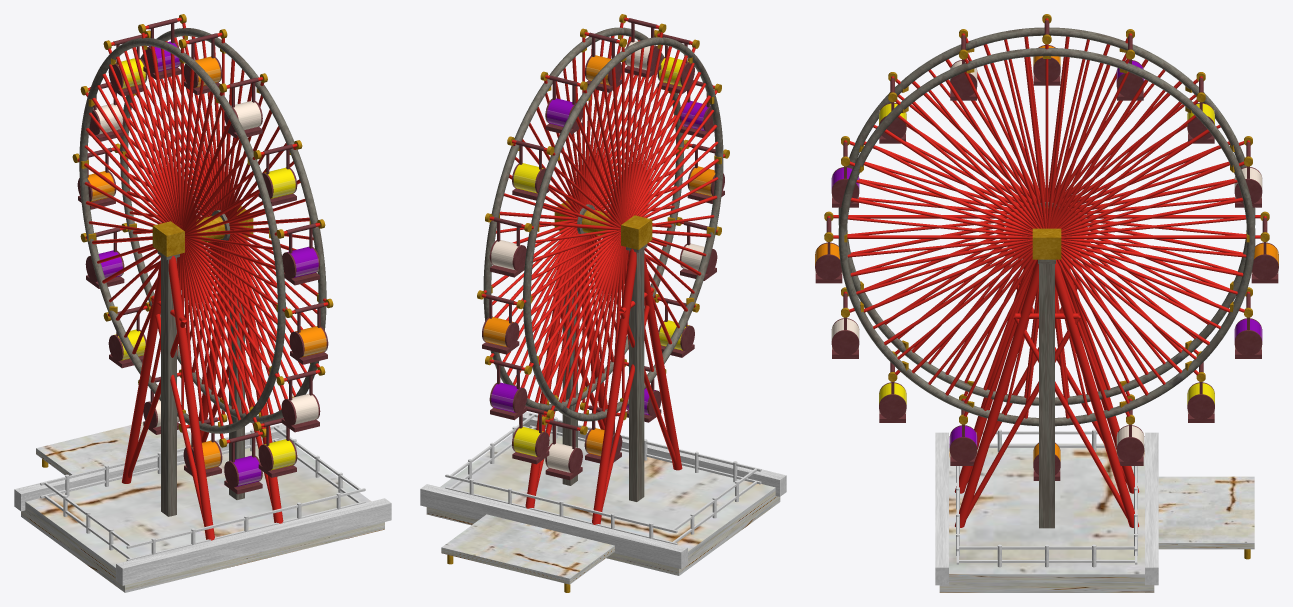
The model's file is ferris_wheel__0000.glb.
3 views of the same model, side by side, from view 1: azimuth 30°, elevation 25°; view 2: azimuth 150°, elevation 25°; view 3: azimuth 270°, elevation 25° (orthographic). The views are drawn at different scales.
Parts seen in each view (by area): view 1: support_frame::platform_slab, wheel::left_outer_rim, support_frame::rear_curbstone, wheel::right_outer_rim, support_frame::left_hidden_core, support_frame::boarding_bridge, support_frame::left_rear_inclined_leg, support_frame::front_curbstone, support_frame::left_front_inclined_leg, support_frame::right_hidden_core, support_frame::left_bearing_block, support_frame::right_rear_inclined_leg (+38 smaller); view 2: support_frame::platform_slab, wheel::left_outer_rim, support_frame::boarding_bridge, support_frame::front_curbstone, wheel::right_outer_rim, support_frame::left_hidden_core, support_frame::left_front_inclined_leg, support_frame::rear_curbstone, support_frame::left_rear_inclined_leg, support_frame::right_hidden_core, support_frame::left_bearing_block, support_frame::right_front_inclined_leg (+34 smaller); view 3: support_frame::platform_slab, wheel::right_outer_rim, wheel::left_outer_rim, support_frame::boarding_bridge, support_frame::right_hidden_core, support_frame::right_front_inclined_leg, support_frame::right_rear_inclined_leg, support_frame::front_curbstone, support_frame::rear_curbstone, support_frame::left_front_inclined_leg, support_frame::left_rear_inclined_leg, support_frame::right_cross_diagonal_a (+52 smaller).
Part boxes in pixels (bbox=[...]): support_frame::platform_slab: bbox=[21, 438, 384, 592]; wheel::left_outer_rim: bbox=[79, 38, 285, 433]; support_frame::rear_curbstone: bbox=[116, 498, 391, 585]; wheel::right_outer_rim: bbox=[120, 28, 326, 423]; support_frame::left_hidden_core: bbox=[161, 256, 176, 516]; support_frame::boarding_bridge: bbox=[36, 422, 191, 475]; support_frame::left_rear_inclined_leg: bbox=[168, 256, 214, 540]; support_frame::front_curbstone: bbox=[14, 424, 289, 511]; support_frame::left_front_inclined_leg: bbox=[122, 258, 160, 483]; support_frame::right_hidden_core: bbox=[229, 293, 244, 499]; support_frame::left_bearing_block: bbox=[152, 221, 184, 256]; support_frame::right_rear_inclined_leg: bbox=[243, 289, 283, 523]; support_frame::platform_slab: bbox=[426, 426, 780, 575]; wheel::left_outer_rim: bbox=[523, 37, 723, 421]; support_frame::boarding_bridge: bbox=[441, 514, 614, 584]; support_frame::front_curbstone: bbox=[420, 484, 687, 568]; wheel::right_outer_rim: bbox=[483, 27, 683, 411]; support_frame::left_hidden_core: bbox=[629, 249, 644, 501]; support_frame::left_front_inclined_leg: bbox=[592, 249, 636, 524]; support_frame::rear_curbstone: bbox=[519, 412, 786, 496]; support_frame::left_rear_inclined_leg: bbox=[644, 252, 682, 470]; support_frame::right_hidden_core: bbox=[562, 287, 577, 485]; support_frame::left_bearing_block: bbox=[621, 215, 652, 249]; support_frame::right_front_inclined_leg: bbox=[525, 280, 564, 508]; support_frame::platform_slab: bbox=[939, 443, 1154, 592]; wheel::right_outer_rim: bbox=[838, 48, 1255, 426]; wheel::left_outer_rim: bbox=[838, 27, 1255, 405]; support_frame::boarding_bridge: bbox=[1158, 476, 1254, 549]; support_frame::right_hidden_core: bbox=[1039, 264, 1054, 528]; support_frame::right_front_inclined_leg: bbox=[1055, 259, 1138, 527]; support_frame::right_rear_inclined_leg: bbox=[955, 259, 1038, 527]; support_frame::front_curbstone: bbox=[1145, 432, 1158, 585]; support_frame::rear_curbstone: bbox=[935, 432, 948, 585]; support_frame::left_front_inclined_leg: bbox=[1061, 264, 1139, 493]; support_frame::left_rear_inclined_leg: bbox=[954, 264, 1032, 493]; support_frame::right_cross_diagonal_a: bbox=[1013, 315, 1127, 518].
Size of the model in its own units: 1.39 by 2.41 by 2.01.
12 materials, 7 textured.
